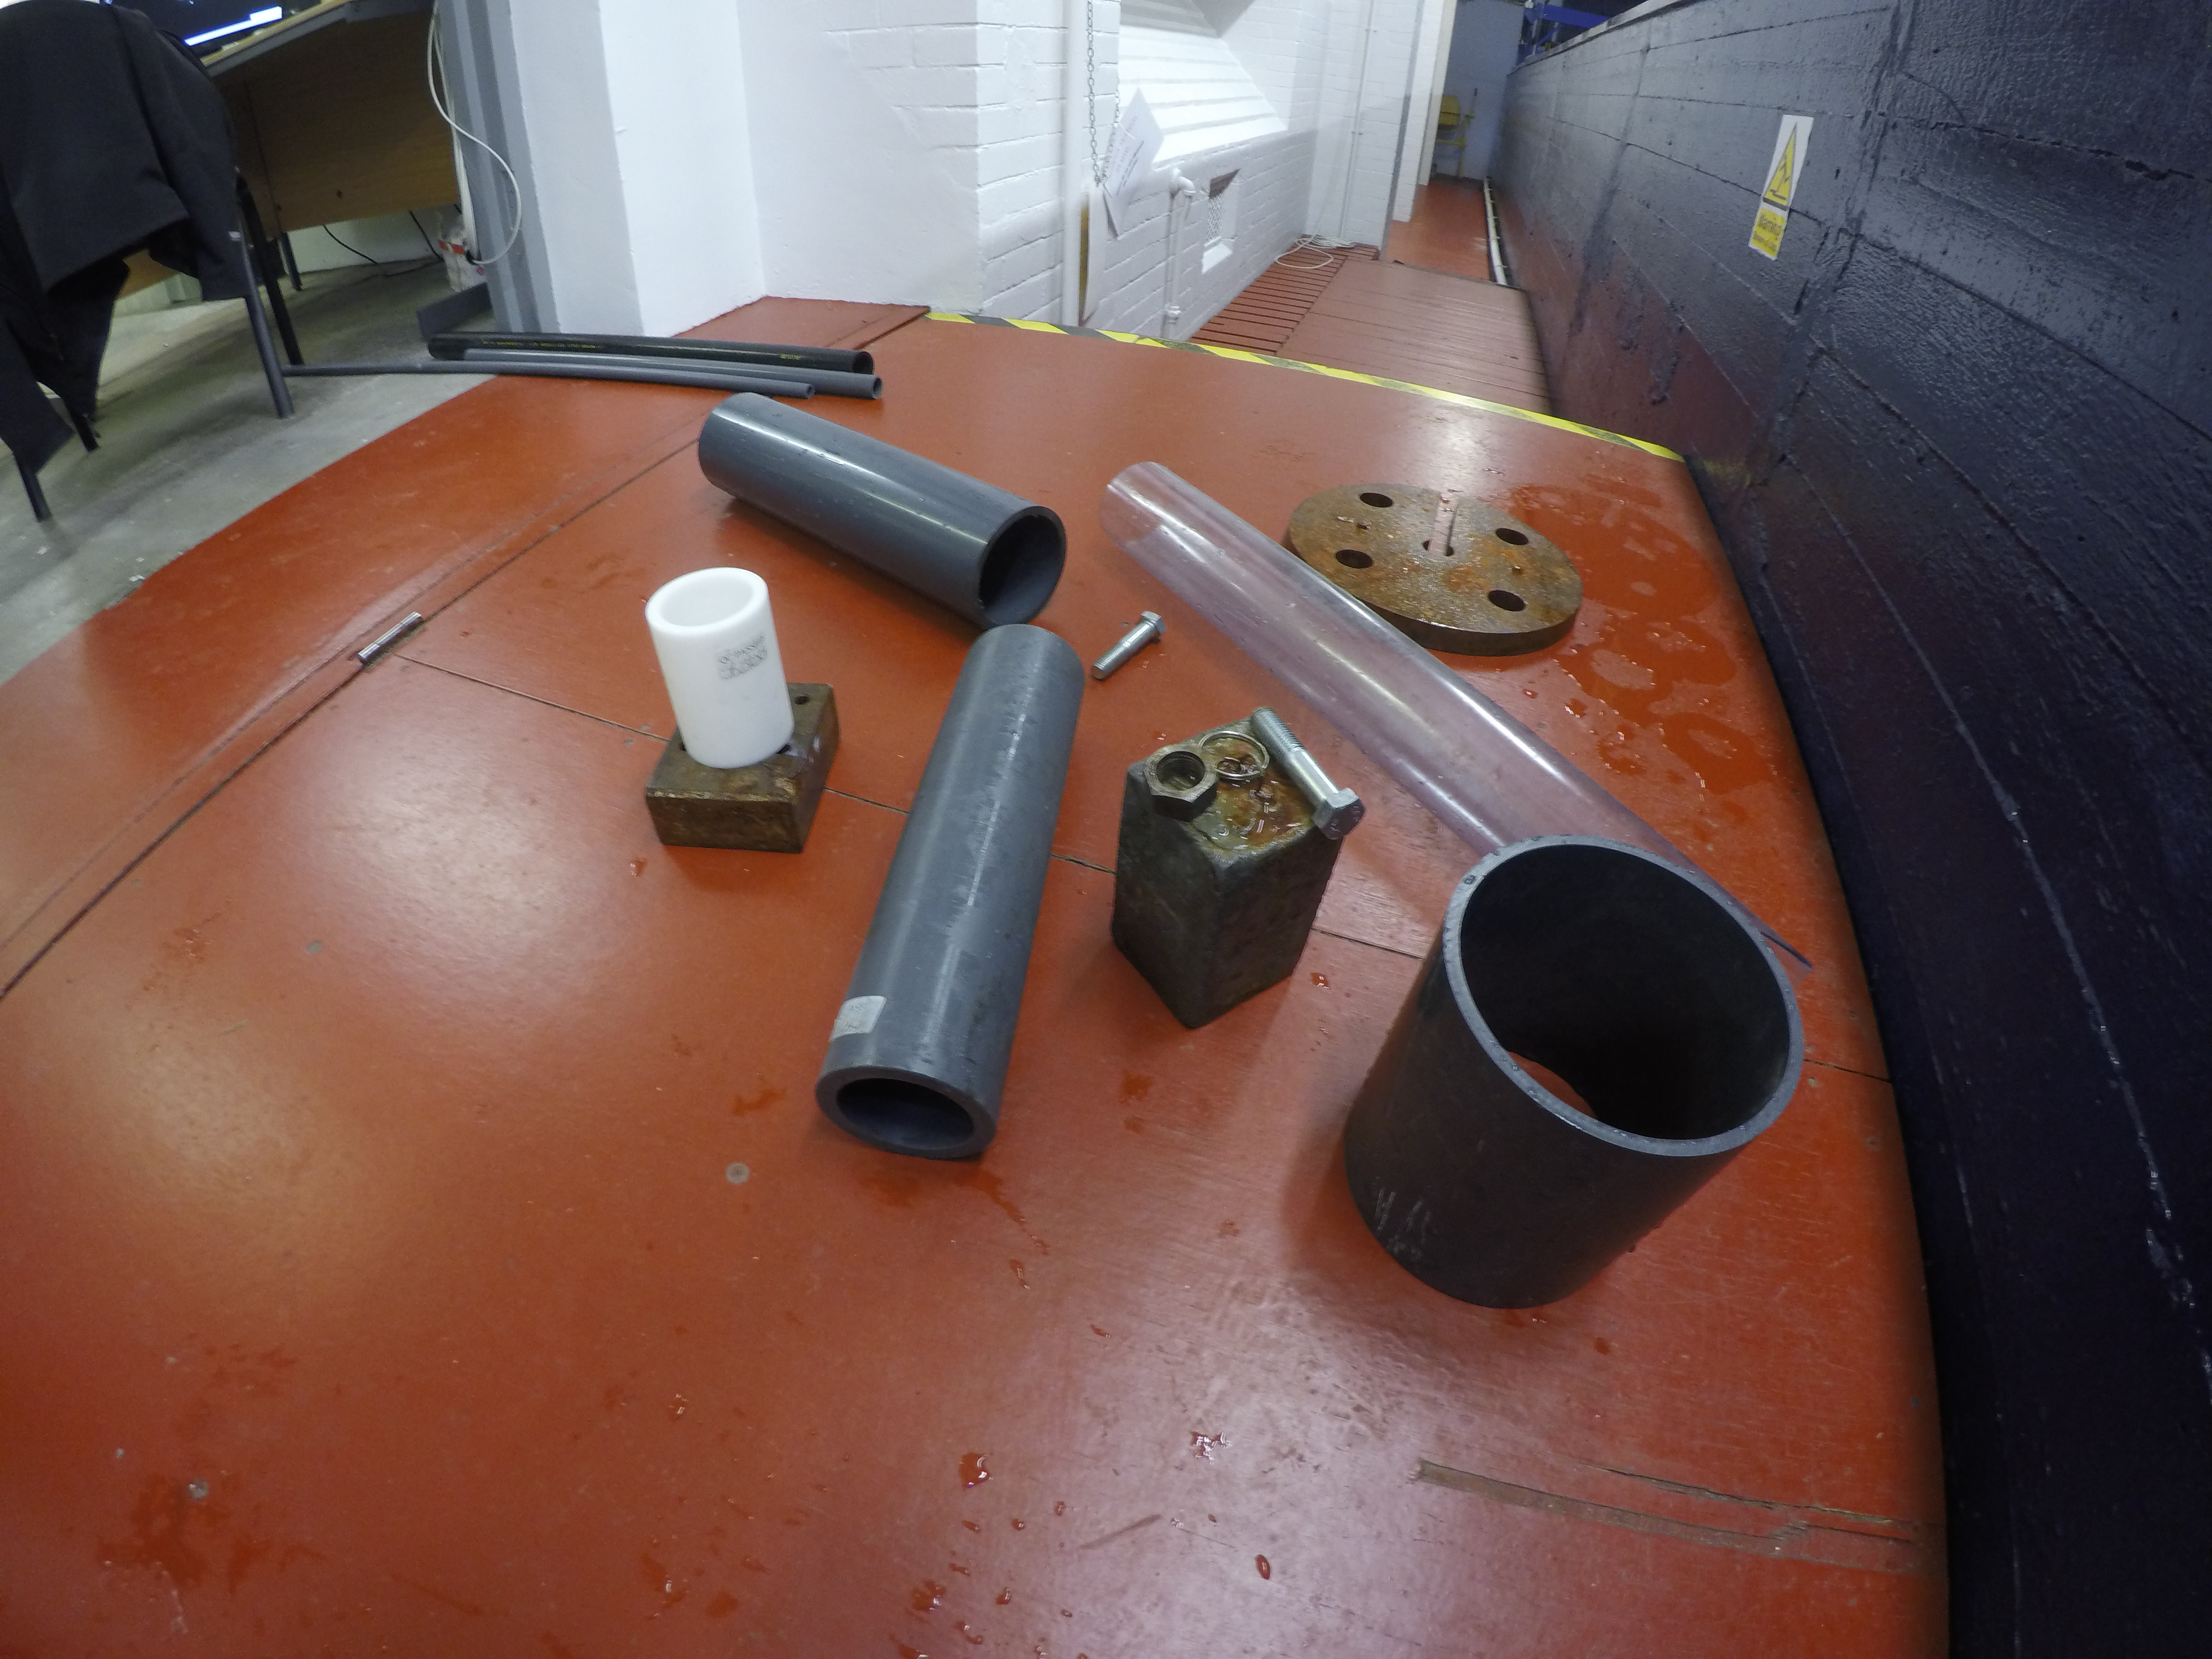bolt: (1251, 708, 1366, 840), (1090, 610, 1165, 681)
flange: (1282, 483, 1583, 657)
led_block: (1109, 708, 1345, 1028), (644, 680, 840, 854)
nut: (1144, 742, 1219, 821)
pipe: (1101, 460, 1820, 985), (1343, 833, 1804, 1310), (815, 626, 1087, 1161), (698, 390, 1068, 629), (646, 565, 796, 770), (462, 349, 881, 399), (273, 362, 820, 399), (423, 333, 874, 373)
